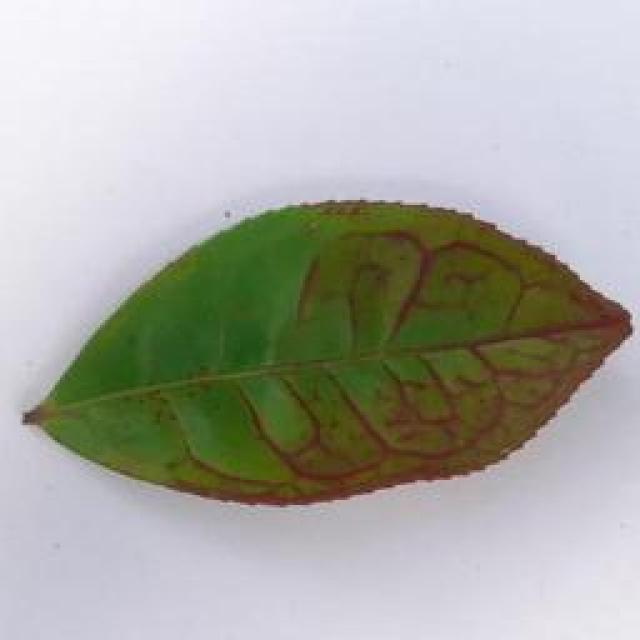Red Leaf Spot: (15, 185, 640, 510)
